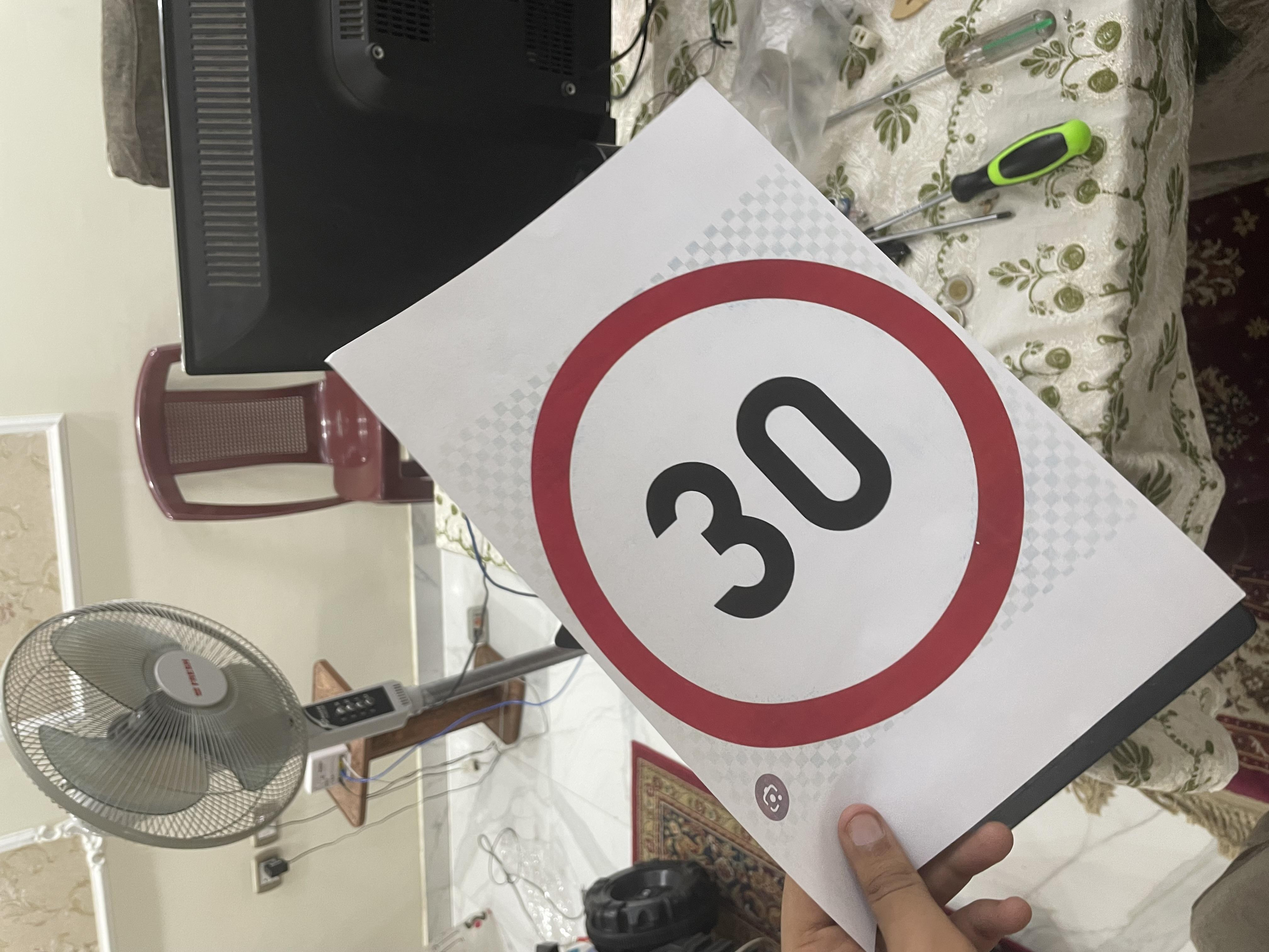30-speed: (265, 392, 922, 776)
